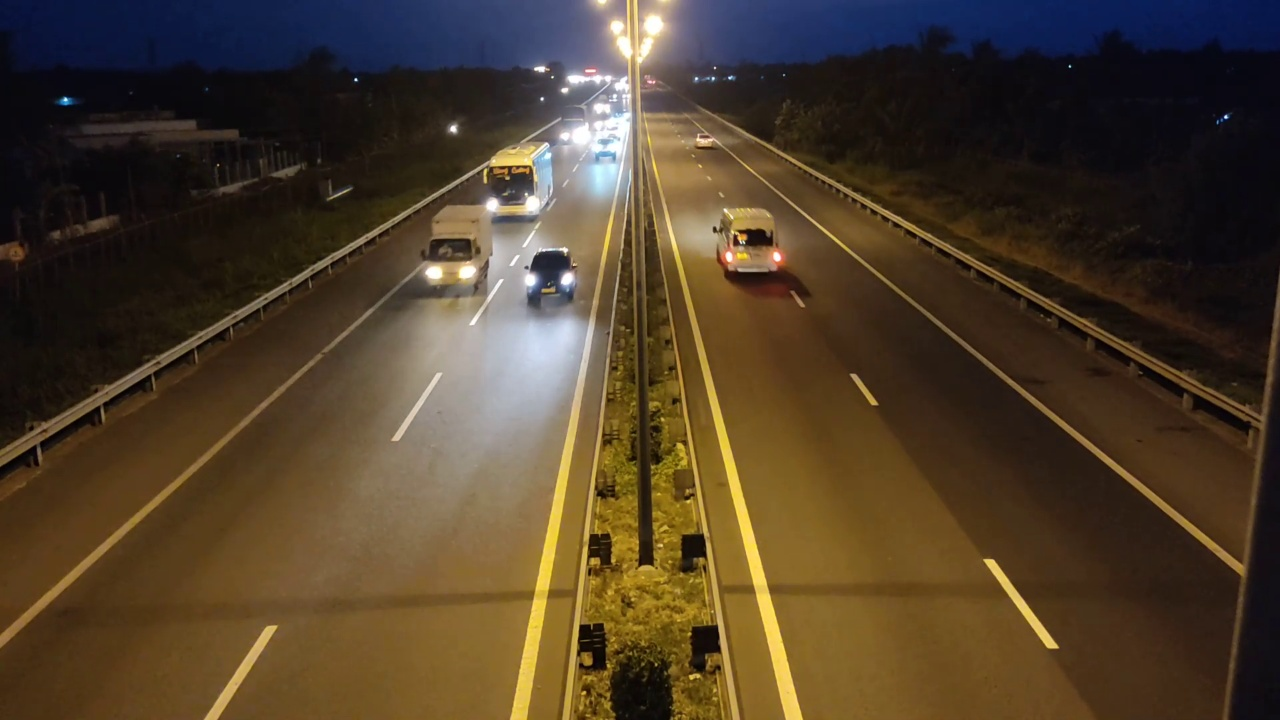bus: (485, 140, 555, 221)
car: (715, 201, 786, 282), (523, 247, 579, 307), (693, 133, 718, 149)
truck: (418, 197, 497, 293)
